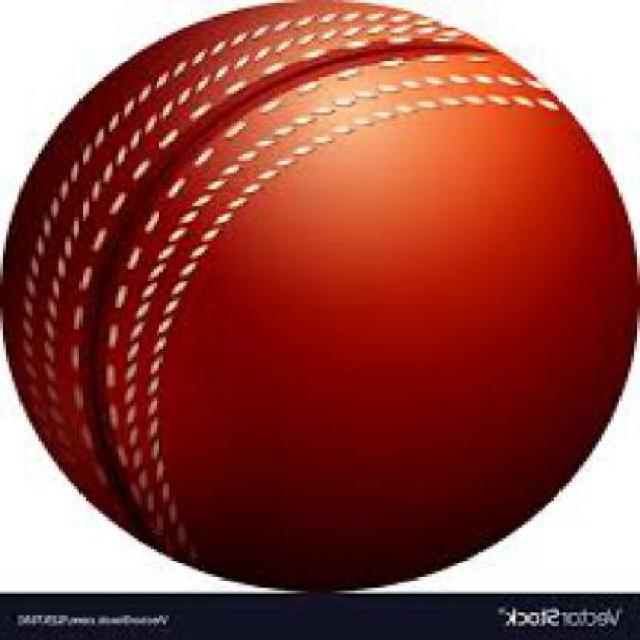ball: (0, 1, 637, 598)
